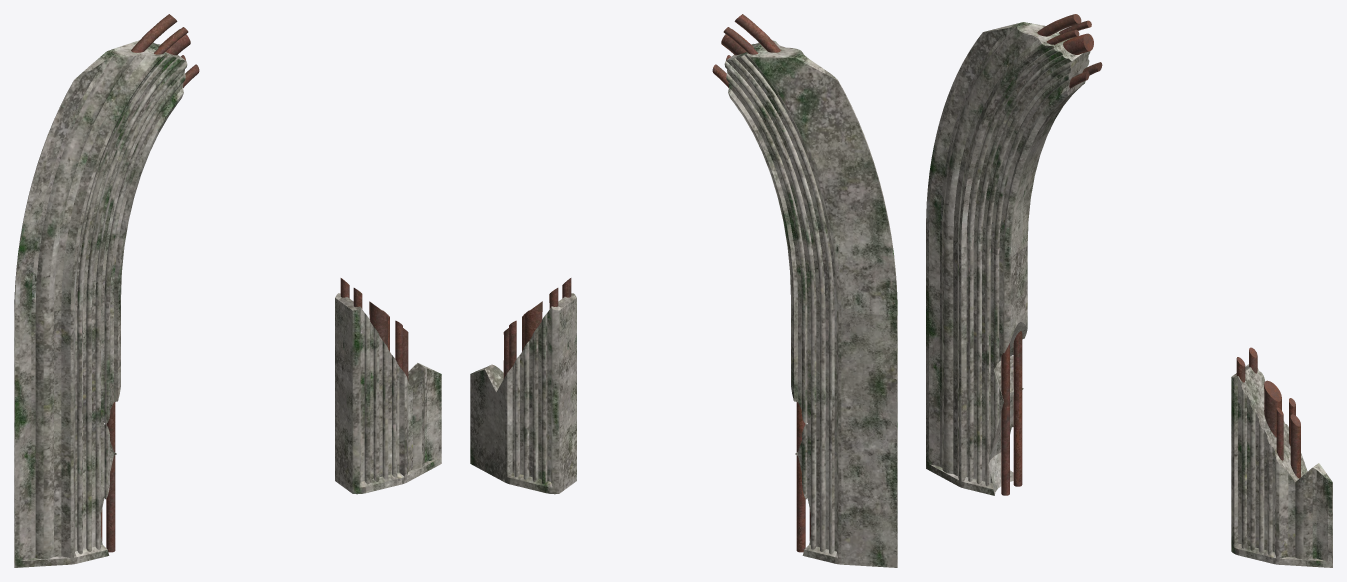
File: ruin_arch_broken.glb
3 views of the same model, side by side, from view 1: azimuth 30°, elevation 25°; view 2: azimuth 150°, elevation 25°; view 3: azimuth 330°, elevation 25° (orthographic). The views are drawn at different scales.
Visible parts, largest first — view 1: mesh_3_Cut_Revolve3_arch3_3_0, mesh_1_arch3_arch3_1_0; view 2: mesh_3_Cut_Revolve3_arch3_3_0, mesh_1_arch3_arch3_1_0; view 3: mesh_3_Cut_Revolve3_arch3_3_0, mesh_1_arch3_arch3_1_0, mesh_2_Sweep2_arch3_2_0.
Part boxes in pixels (box(x1,y1,x2,y2)): mesh_3_Cut_Revolve3_arch3_3_0: box(14, 40, 441, 567); mesh_1_arch3_arch3_1_0: box(100, 14, 408, 552); mesh_3_Cut_Revolve3_arch3_3_0: box(470, 40, 897, 567); mesh_1_arch3_arch3_1_0: box(503, 14, 811, 552); mesh_3_Cut_Revolve3_arch3_3_0: box(926, 22, 1332, 567); mesh_1_arch3_arch3_1_0: box(1001, 14, 1300, 495); mesh_2_Sweep2_arch3_2_0: box(1073, 14, 1300, 426).
Size of the model in its own units: 62.68 by 72.2 by 5.81.
3 materials, 3 textured.
